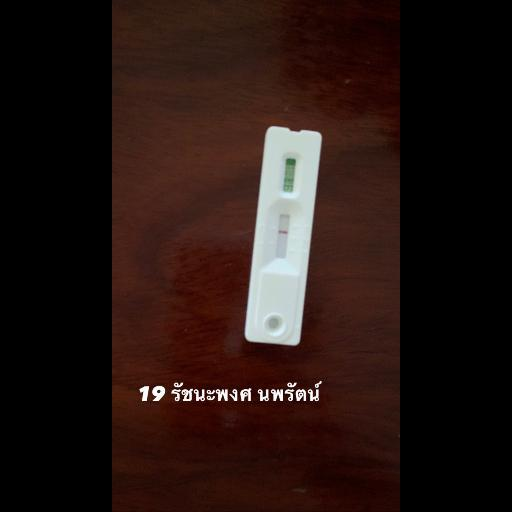Neg: (244, 124, 322, 347)
